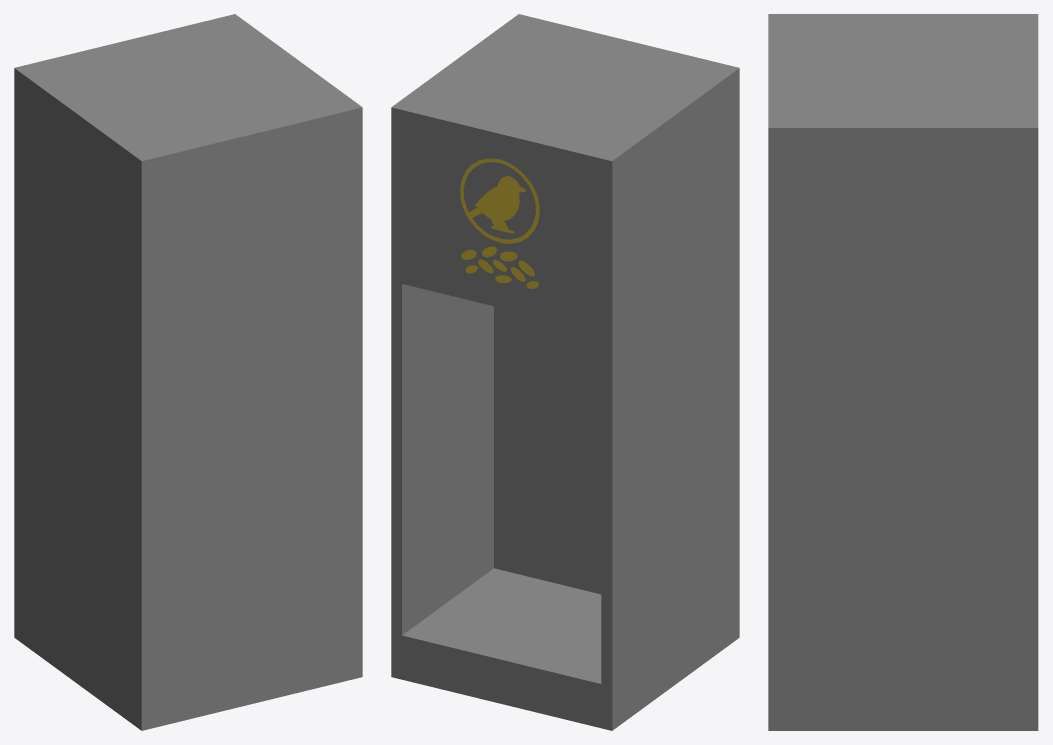
The model's file is BirdSeedsBox.fbx.
3 views of the same model, side by side, from view 1: azimuth 30°, elevation 25°; view 2: azimuth 150°, elevation 25°; view 3: azimuth 270°, elevation 25° (orthographic). The views are drawn at different scales.
Parts seen in each view (by area): view 1: Cube.222; view 2: Cube.222; view 3: Cube.222.
Boxes of the visible parts, <box> form: Cube.222: <box>14,14,362,730</box>; Cube.222: <box>391,14,739,730</box>; Cube.222: <box>768,14,1038,730</box>.
Size of the model in its own units: 102 by 252 by 102.
